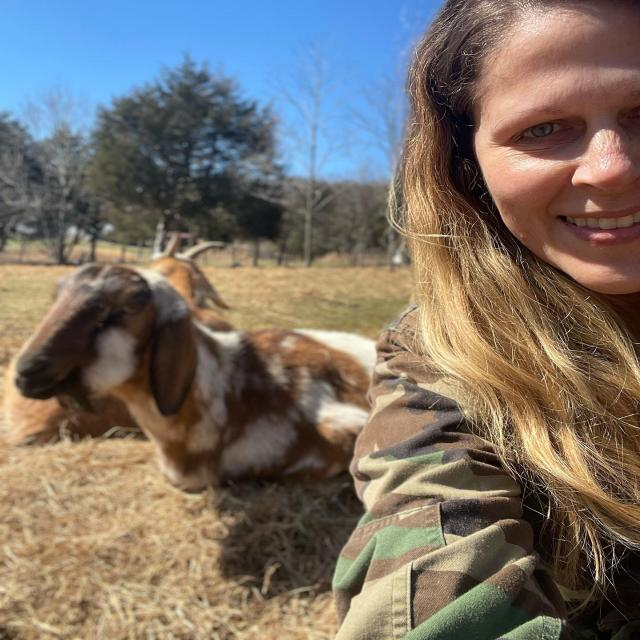goat: (6, 252, 364, 505)
